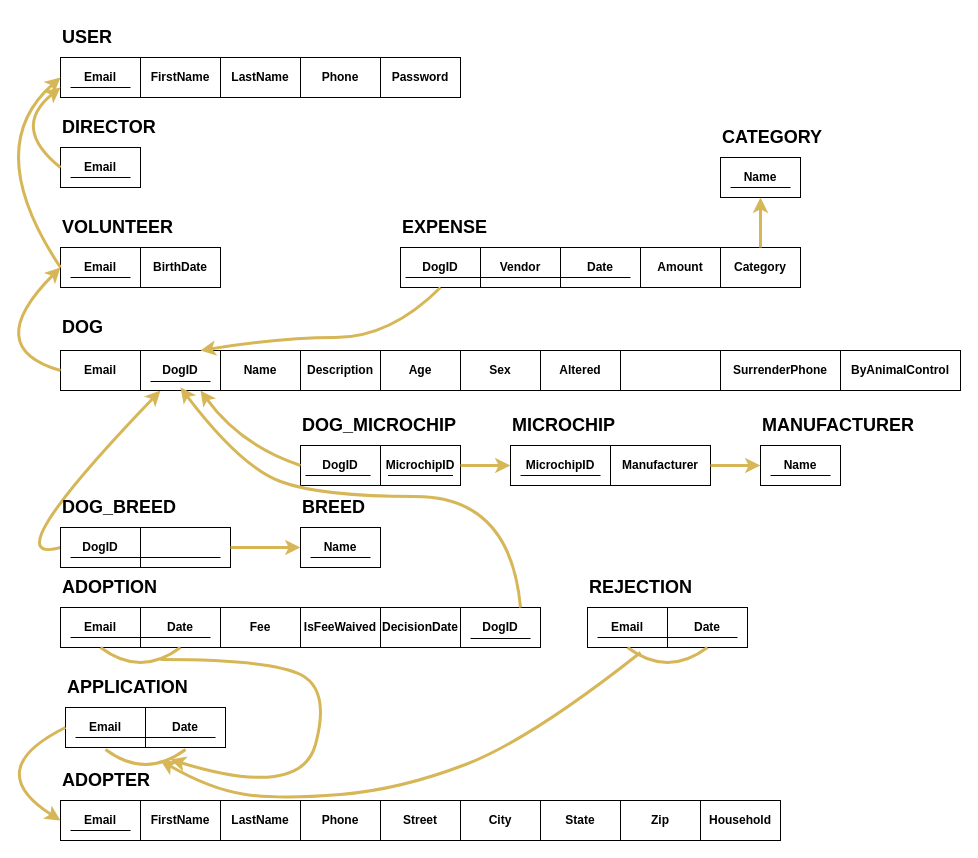
This 978x858 diagram has some shape labels left out. Here are the shapes that lost their labels. From the top down, the centre of each, then its label:
point (670, 370): SurrenderDate
point (185, 547): BreedName
